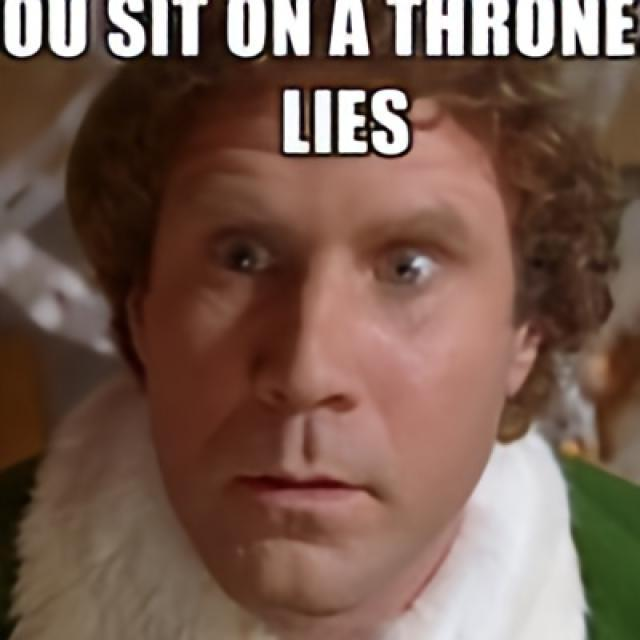fear: (145, 80, 514, 614)
